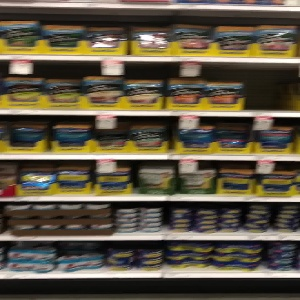void: (244, 67, 300, 110)
